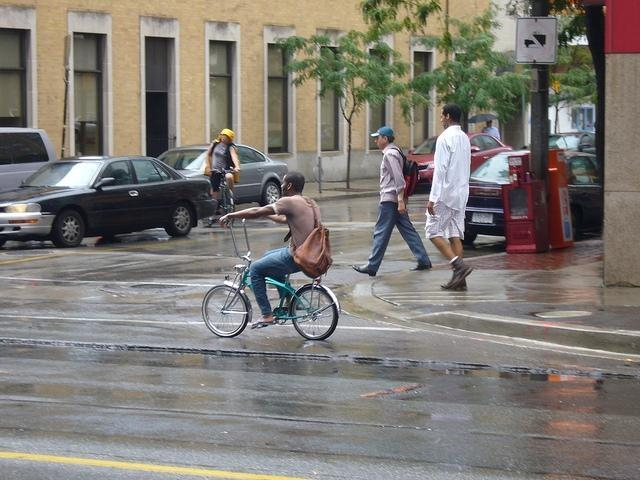bicycle: (198, 169, 235, 229)
car: (0, 158, 213, 248), (159, 144, 290, 207), (406, 132, 514, 193), (469, 153, 528, 236), (0, 123, 59, 203), (566, 150, 604, 239), (548, 132, 598, 152)
